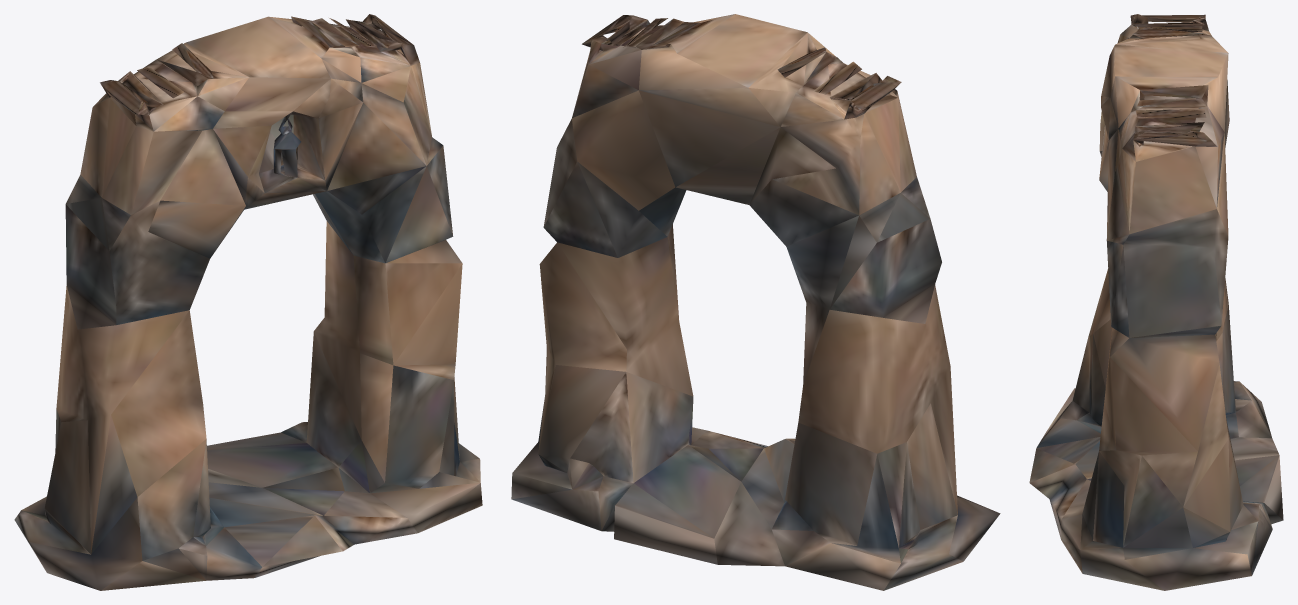
Rendered from repere-arche-loin.glb.
3 views of the same model, side by side, from view 1: azimuth 30°, elevation 25°; view 2: azimuth 150°, elevation 25°; view 3: azimuth 270°, elevation 25° (orthographic). The views are drawn at different scales.
Visible parts, largest first — view 1: repere-arche-loin; view 2: repere-arche-loin; view 3: repere-arche-loin.
Boxes of the visible parts, x1,y1,x2,y2 form: repere-arche-loin: [14, 14, 482, 590]; repere-arche-loin: [511, 14, 1000, 590]; repere-arche-loin: [1029, 14, 1283, 590].
Size of the model in its own units: 1.83 by 1.9 by 1.
Materials: 1 (1 with a texture image).
